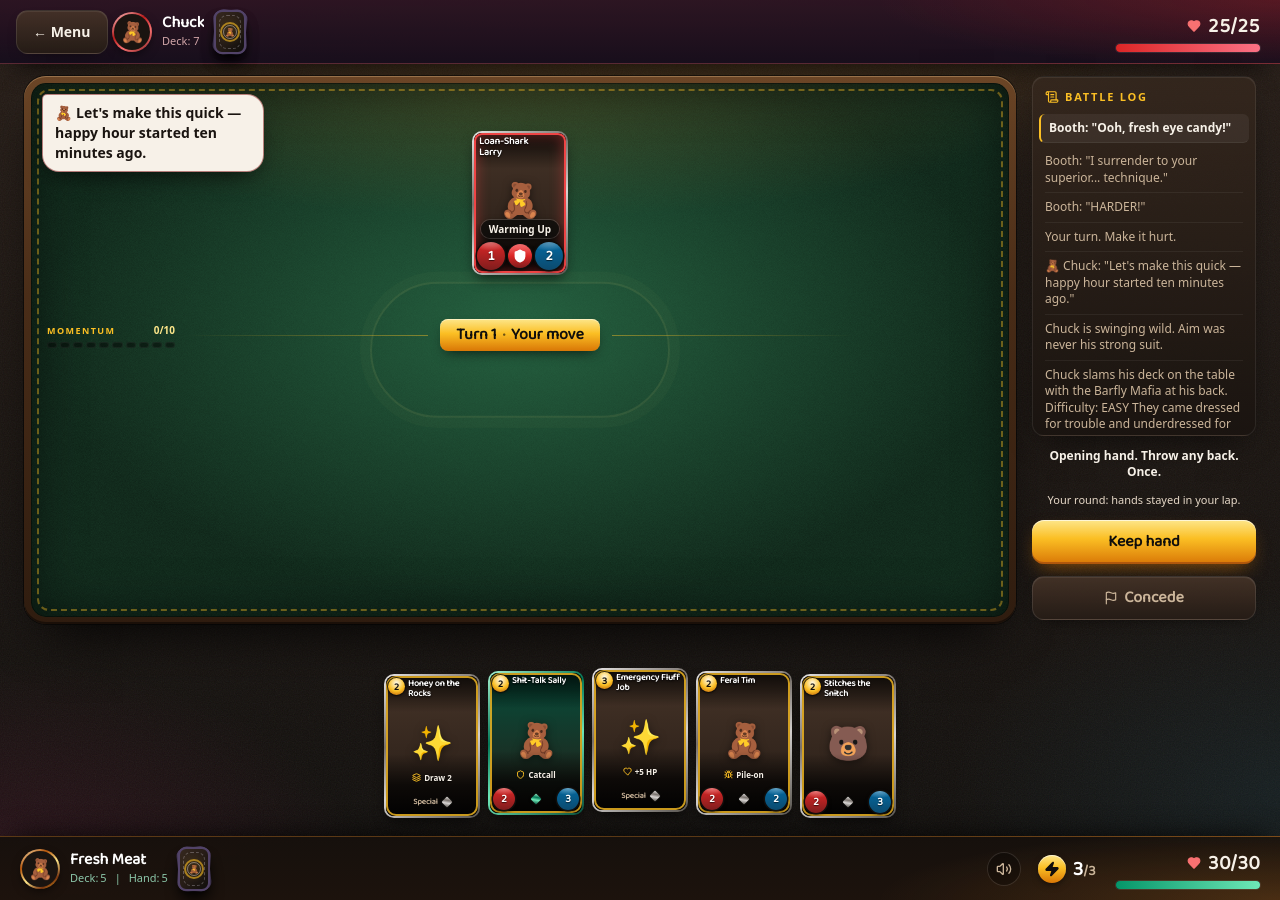
Test: GameBoard › leaves at once once the game is over
Click the button "Keep hand" at x=1144, y=542, box [1032,520,1256,564]
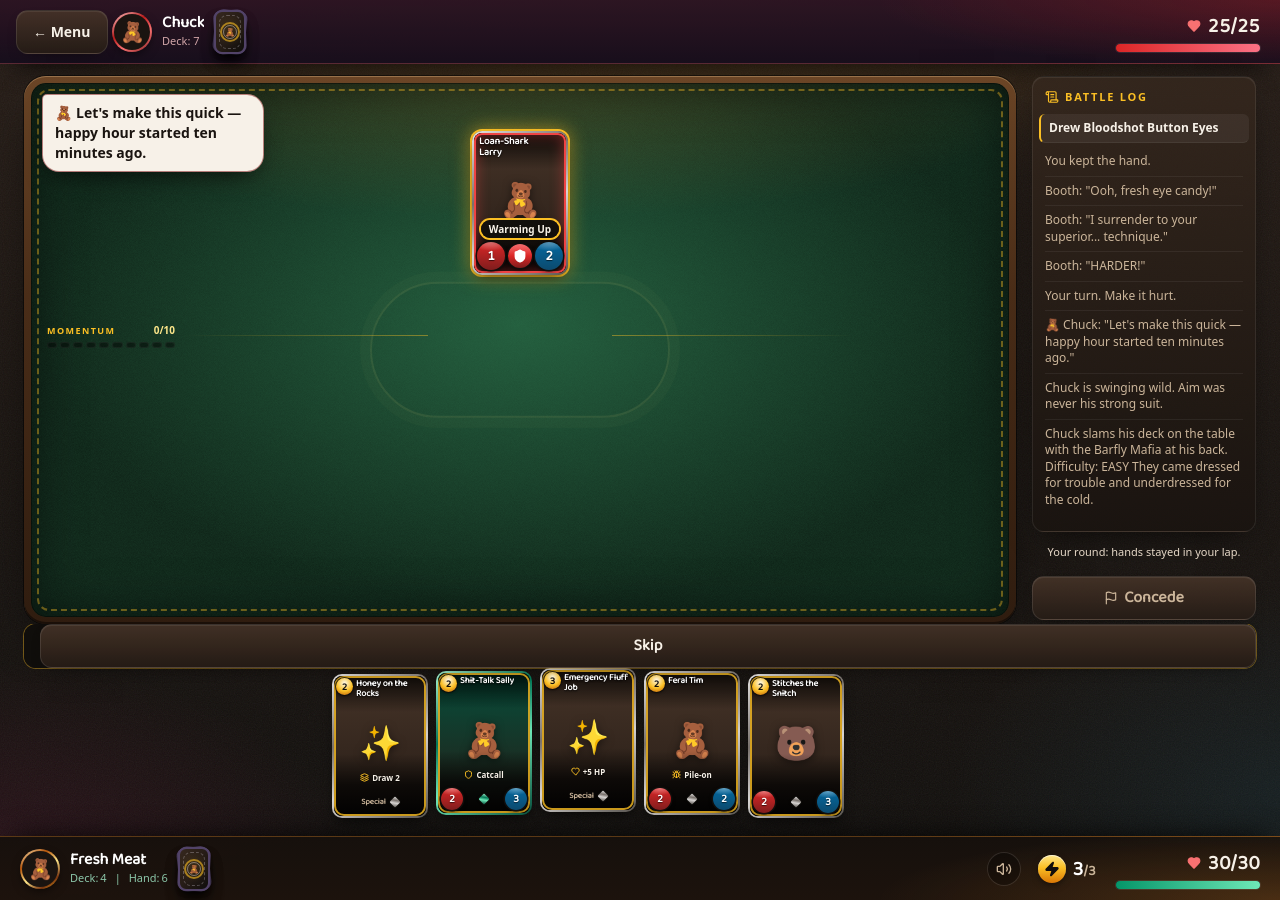
Click the button "Concede" at x=1144, y=598, box [1032,576,1256,620]
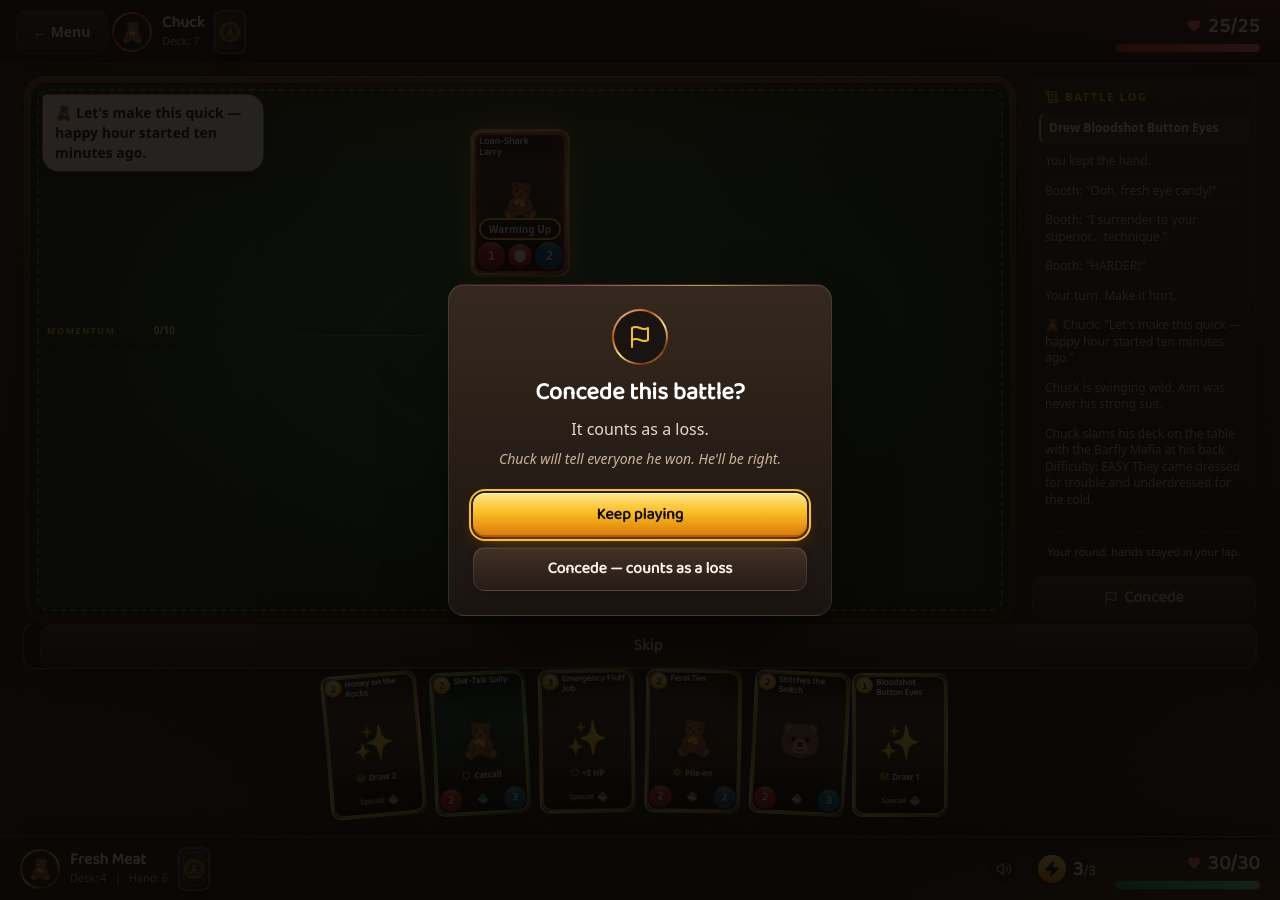
Result: the heading with id "leave-battle-title" reads "Concede this battle?" at [535,373,745,412]
Click the button "Concede — counts as a loss" at x=640, y=569, box [473,547,807,591]
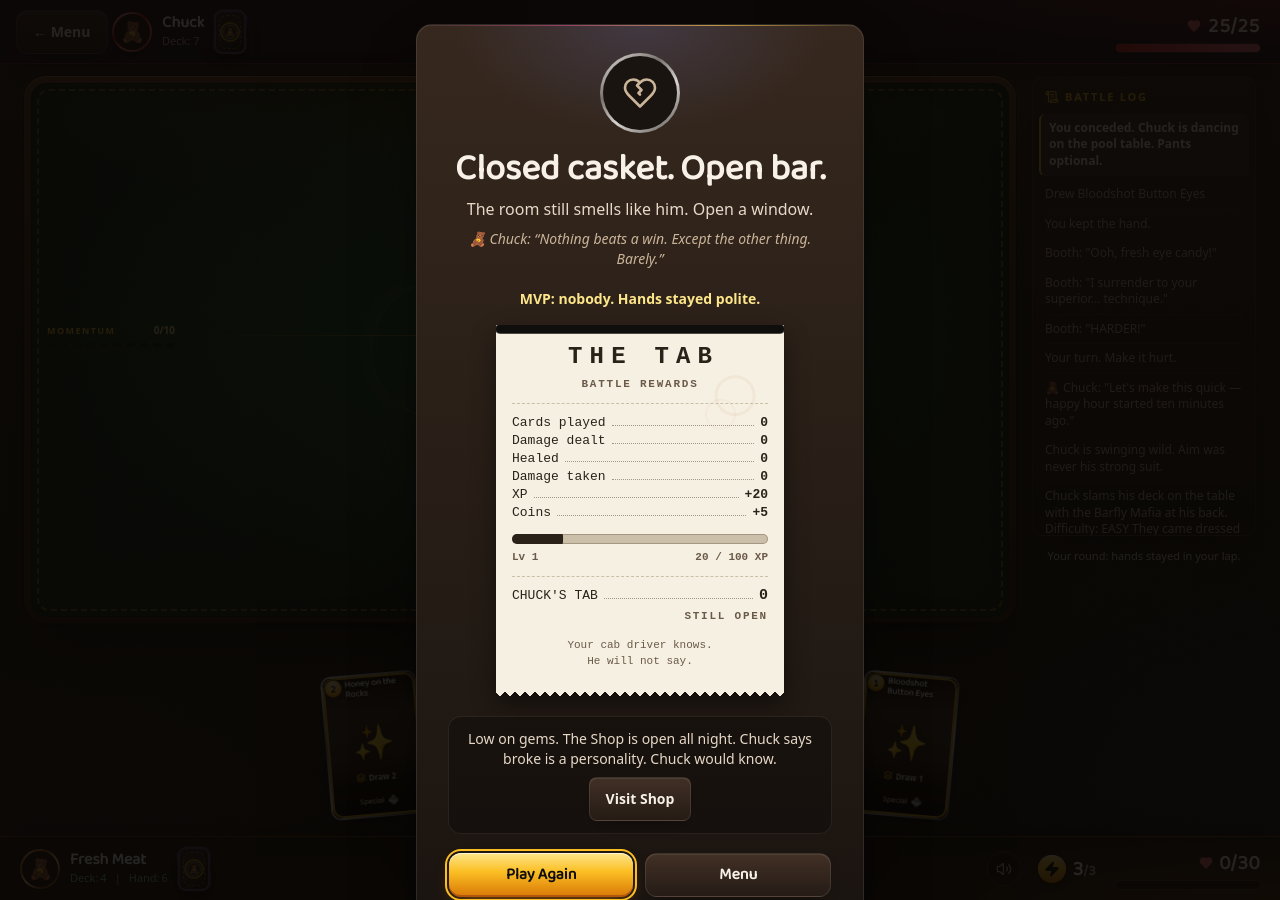
Result: the dialog named "Defeat" is shown
Result: the heading with id "leave-battle-title" is gone
